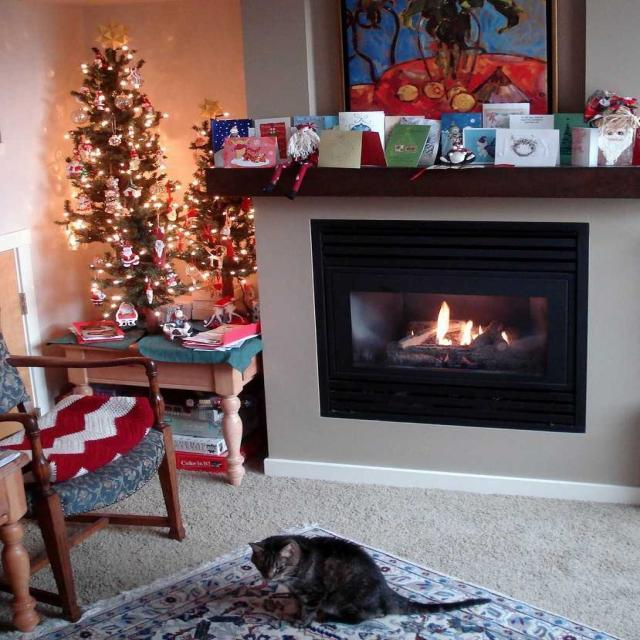Fire: (428, 304, 501, 350)
